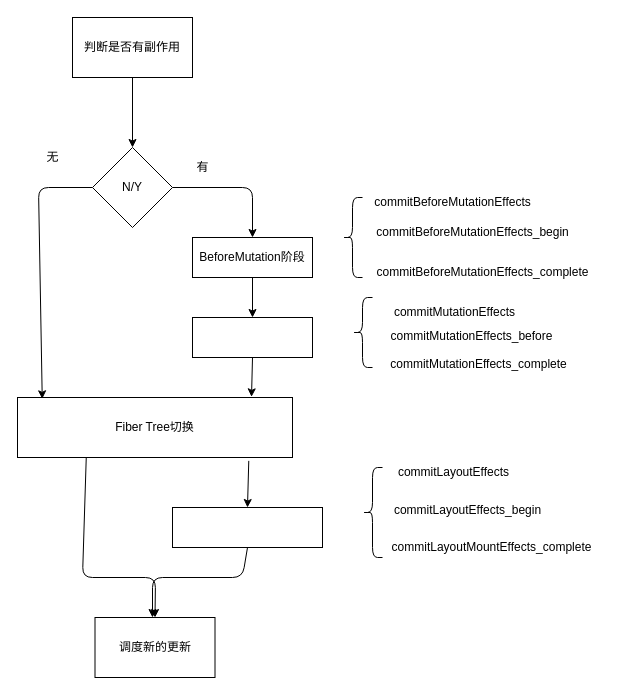
Some shapes in this 620 by 695 pixel diagram are drawn without their labels. The centre of each missing label's shape, as x and y in pixels:
Layout阶段: [247,527]
Mutation阶段: [252,337]
